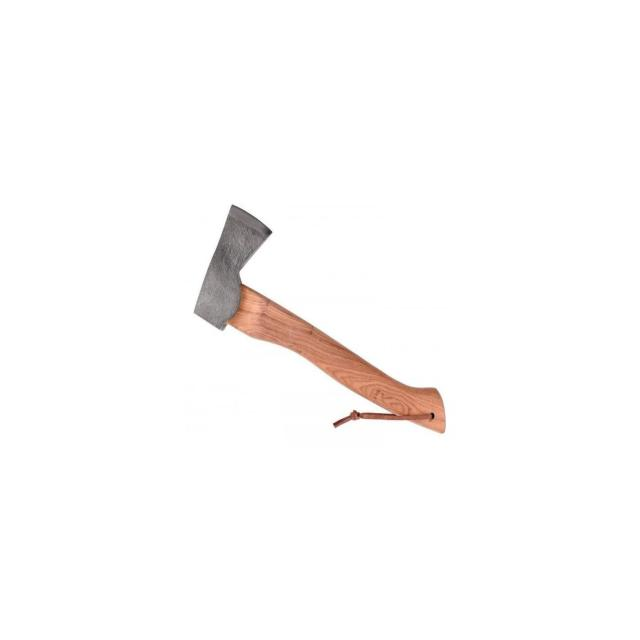Kapak: (180, 217, 451, 454)
